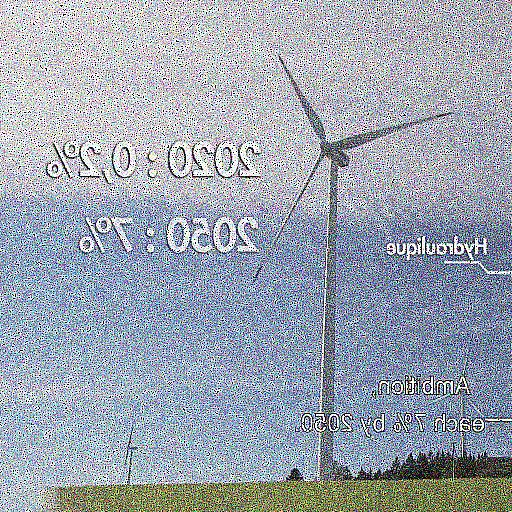wind turbine: (253, 55, 452, 479)
